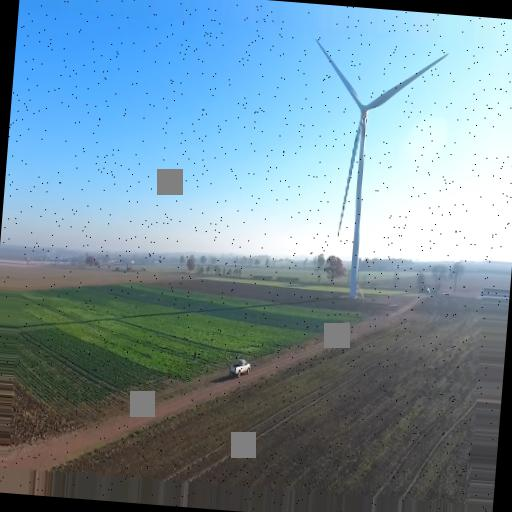wind turbine: (313, 35, 454, 294)
